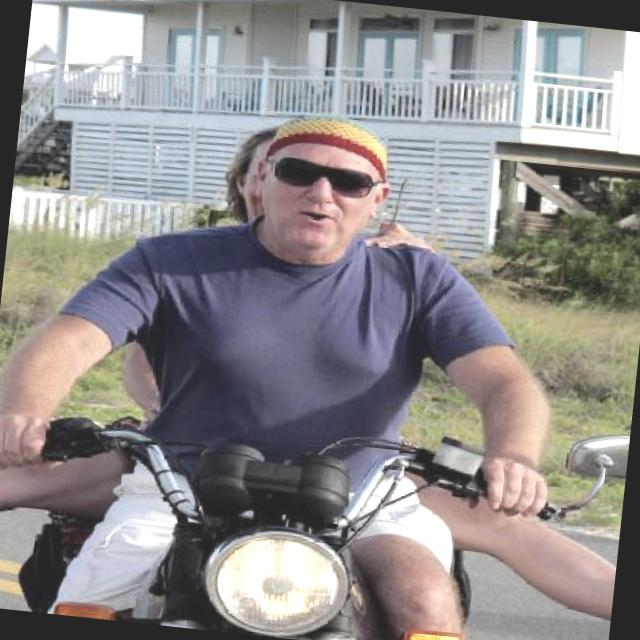Person: (0, 95, 640, 613), (0, 78, 589, 640)
